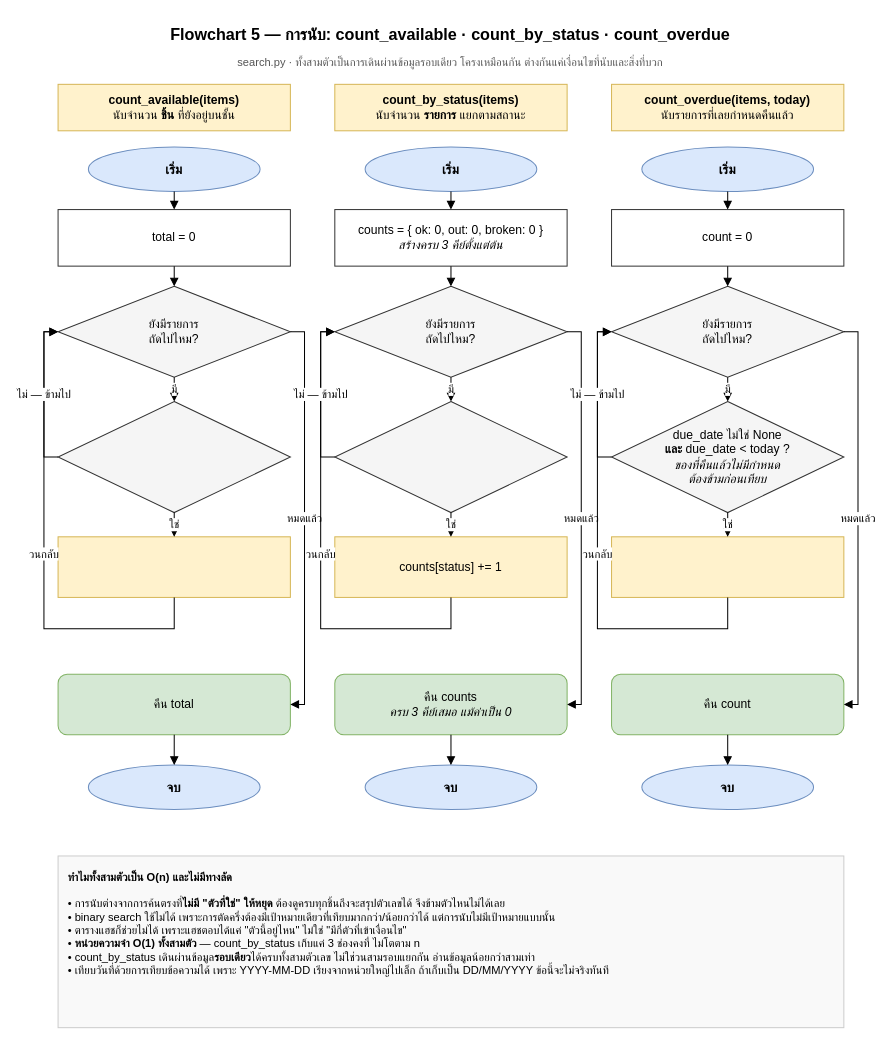
Some shapes in this 893 by 1045 pixel diagram are drawn without their labels. The box of each missing label's shape, as (x1, y1, x2, y2) in pixels:
count += 1: (611, 536, 844, 597)
status เป็นหนึ่งใน 3 คีย์ที่รู้จัก? ค่าแปลกปลอมถูกข้ามไป: (334, 400, 567, 513)
status ≠ broken ? ของชำรุดไม่นับ ถึงจะวางอยู่ บนชั้นก็ปล่อยเช่าไม่ได้: (57, 400, 290, 513)
total += item["available"] บวกเป็นจำนวนชิ้น ไม่ใช่ +1: (57, 536, 290, 597)
